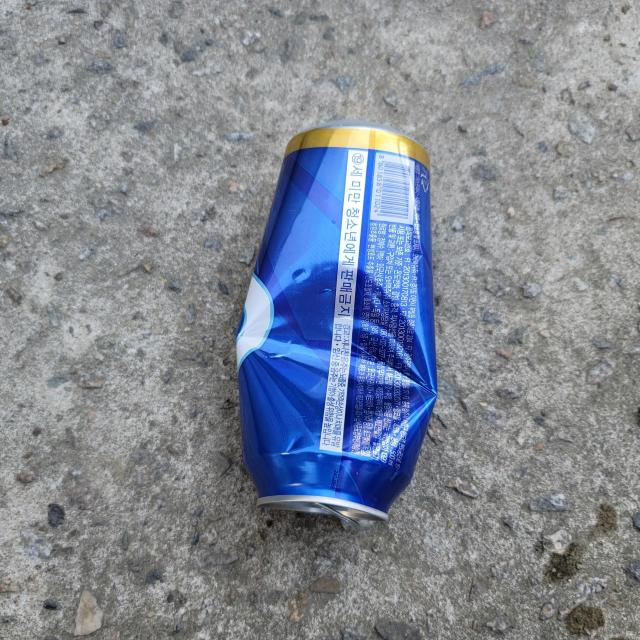can: (236, 121, 437, 523)
